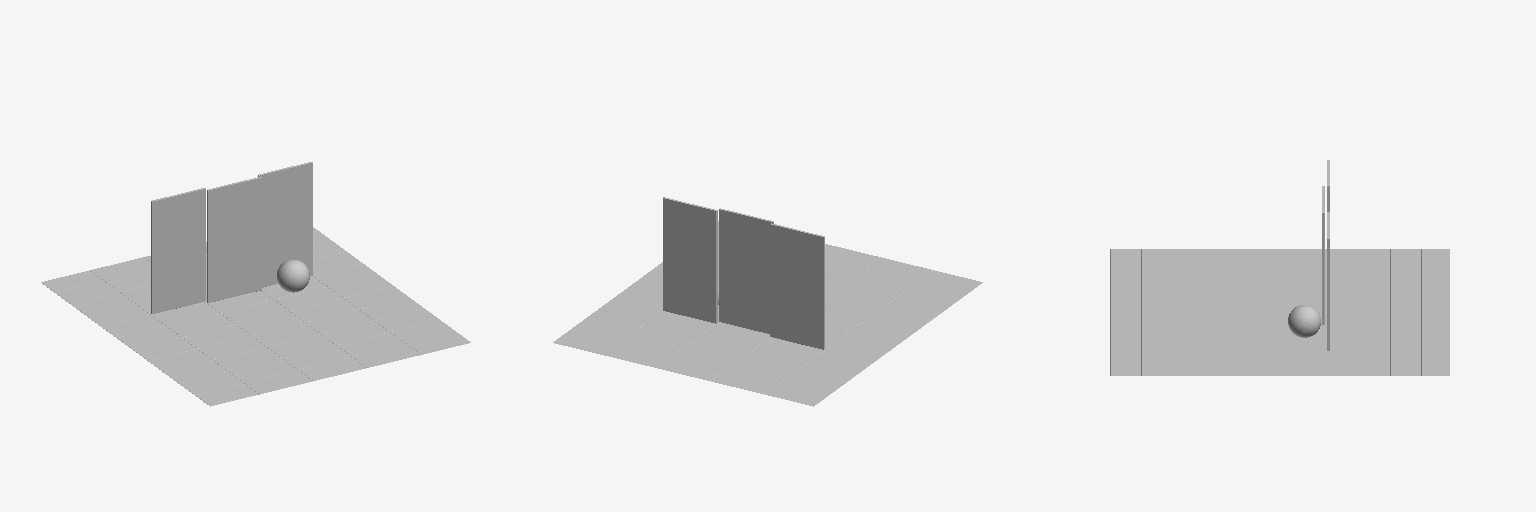
File: Collection Marble 78.obj
The picture shows the model from 3 angles: view 1: azimuth 30°, elevation 25°; view 2: azimuth 150°, elevation 25°; view 3: azimuth 270°, elevation 25°; orthographic projection.
Parts seen in each view (by area): view 1: Floor, Slab03, Slab01, Slab02, Sphere; view 2: Floor, Slab02, Slab03, Slab01; view 3: Floor, Sphere.
Part boxes in pixels (bbox=[...]): Floor: bbox=[41, 227, 470, 406]; Slab03: bbox=[151, 188, 205, 313]; Slab01: bbox=[207, 177, 261, 302]; Slab02: bbox=[258, 162, 312, 287]; Sphere: bbox=[277, 259, 309, 292]; Floor: bbox=[553, 221, 982, 406]; Slab02: bbox=[663, 197, 717, 323]; Slab03: bbox=[770, 223, 824, 349]; Slab01: bbox=[719, 208, 773, 333]; Floor: bbox=[1110, 249, 1449, 375]; Sphere: bbox=[1288, 305, 1320, 337].
Bounding box in the file's own units: 582 × 241 × 654.